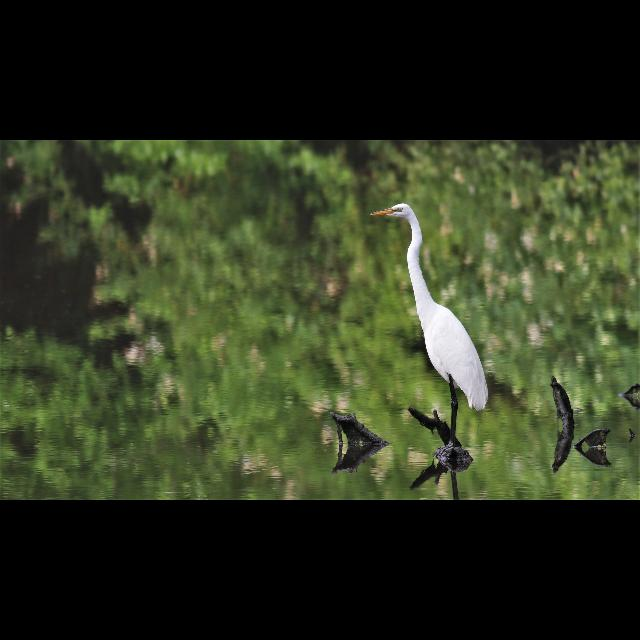egret: (362, 200, 494, 448)
